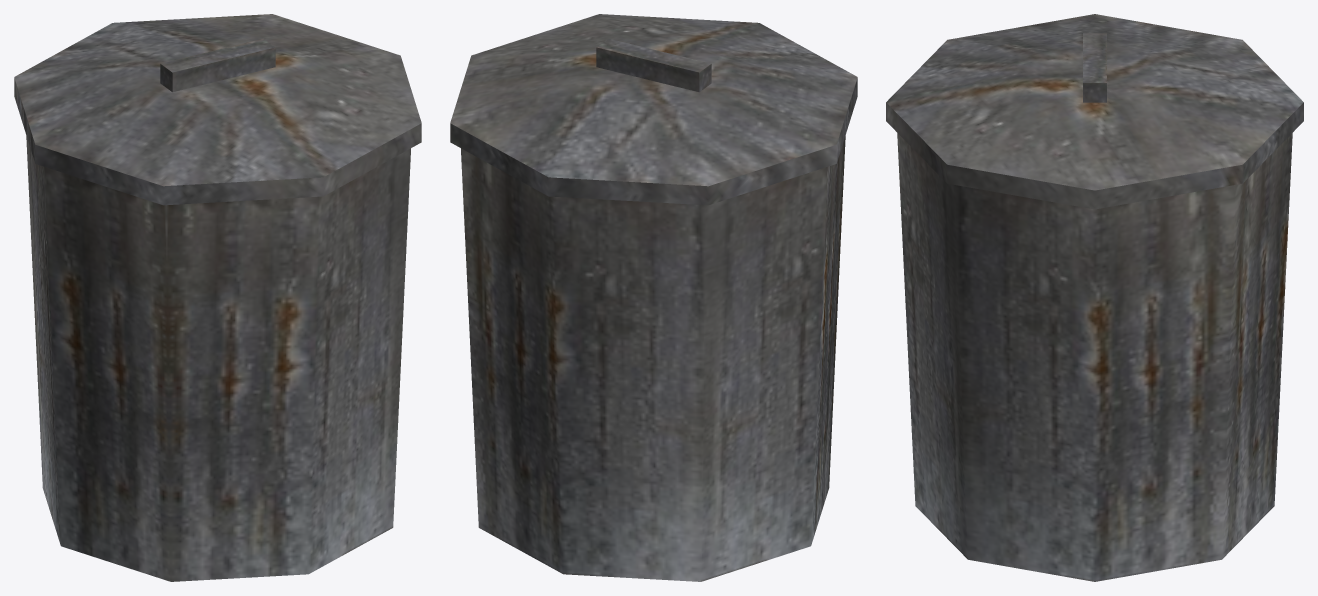
File: metal_trash_can.dae
3 renders of one model, left to right at view 1: azimuth 30°, elevation 25°; view 2: azimuth 150°, elevation 25°; view 3: azimuth 270°, elevation 25°, orthographic.
Parts seen in each view (by area): view 1: metal_trash_can, metal_trash_can_top; view 2: metal_trash_can, metal_trash_can_top; view 3: metal_trash_can, metal_trash_can_top.
Boxes of the visible parts, x1,y1,x2,y2 form: metal_trash_can: (26,136,410,581); metal_trash_can_top: (14,14,421,205); metal_trash_can: (461,136,845,581); metal_trash_can_top: (450,14,857,205); metal_trash_can: (897,133,1292,581); metal_trash_can_top: (886,14,1303,209).
Size of the model in its own units: 0.8062 by 0.8062 by 0.9536.
Materials: 1 (1 with a texture image).
